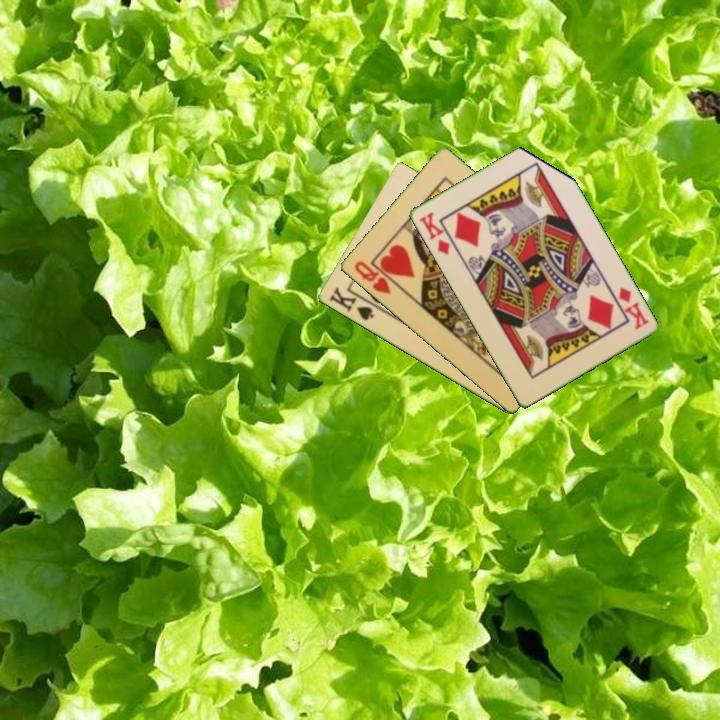Kd: (415, 208, 452, 258), (615, 283, 652, 332)
Ks: (325, 283, 381, 324)
Qh: (350, 257, 394, 297)
